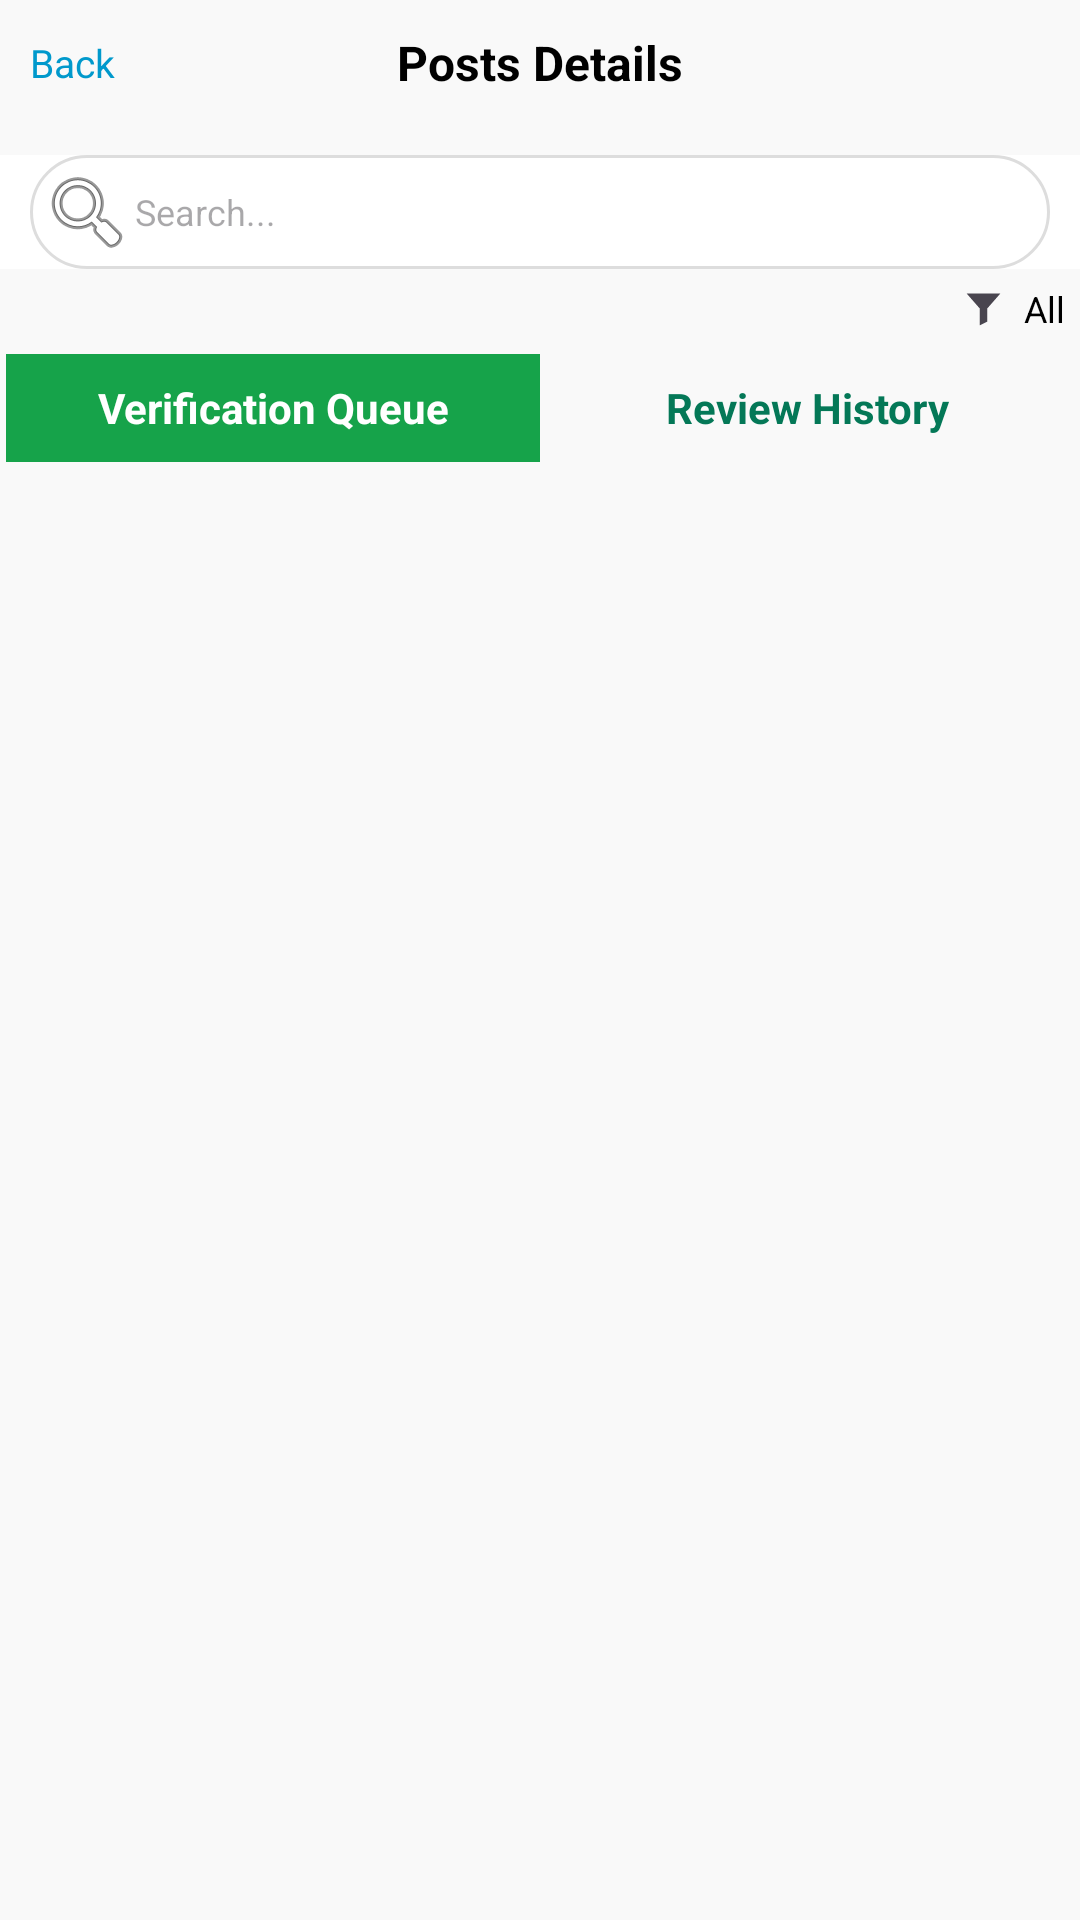

Screen size 1080w x 1920h. Icon name, then its box in pixels as (x1, y1, x2, y2):
filter: (967, 293, 1000, 325)
